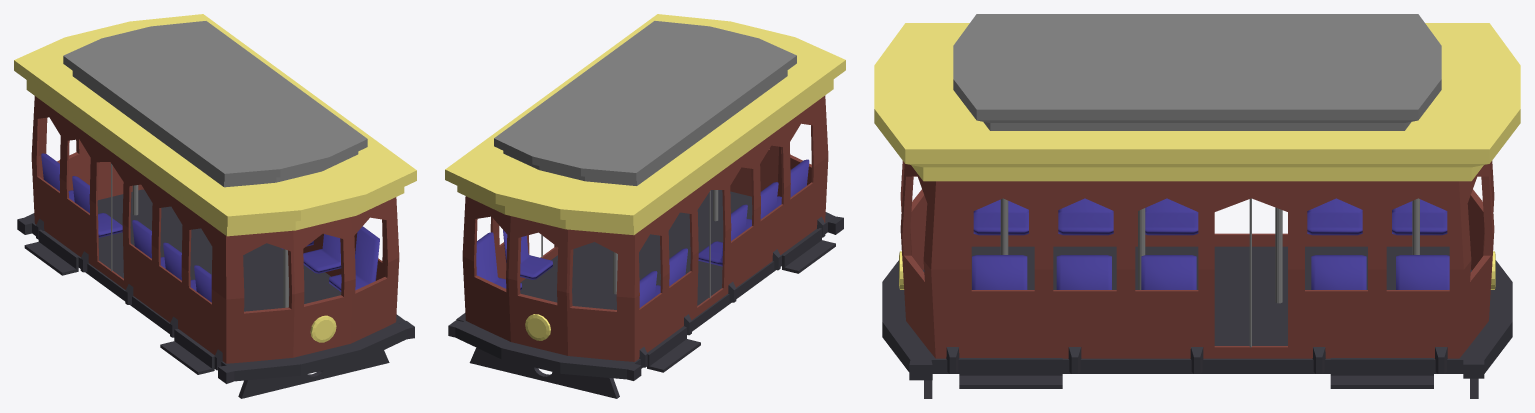
The model's file is TrolleyCarriage.fbx.
The picture shows the model from 3 angles, left to right: view 1: azimuth 30°, elevation 25°; view 2: azimuth 150°, elevation 25°; view 3: azimuth 270°, elevation 25°; orthographic projection. The views are drawn at different scales.
Visible parts, largest first — view 1: Cube.006, Cube.008, Cube.007, Cube, Cube.004, Cube.009, Cube.005, Cube.010, Cube.011, Cube.002, Cylinder, Cylinder.002; view 2: Cube.006, Cube.008, Cube.007, Cube, Cube.004, Cube.005, Cube.010, Cube.012, Cube.011, Cube.002, Cylinder, Cylinder.002; view 3: Cube.006, Cube.008, Cube.007, Cube, Cube.003, Cube.009, Cube.010, Cube.012, Cube.011, Cylinder.002, Cube.001.
Part boxes in pixels (x1=…): Cube.006: x1=31, y1=96, x2=399, y2=363; Cube.008: x1=63, y1=21, x2=367, y2=187; Cube.007: x1=14, y1=14, x2=416, y2=236; Cube: x1=17, y1=189, x2=414, y2=383; Cube.004: x1=24, y1=229, x2=214, y2=374; Cube.009: x1=281, y1=226, x2=379, y2=291; Cube.005: x1=238, y1=350, x2=389, y2=398; Cube.010: x1=132, y1=220, x2=211, y2=302; Cube.011: x1=41, y1=153, x2=122, y2=237; Cube.002: x1=36, y1=218, x2=222, y2=370; Cylinder: x1=310, y1=315, x2=336, y2=342; Cylinder.002: x1=132, y1=185, x2=288, y2=307; Cube.006: x1=462, y1=95, x2=828, y2=361; Cube.008: x1=494, y1=21, x2=796, y2=185; Cube.007: x1=445, y1=14, x2=845, y2=235; Cube: x1=448, y1=190, x2=843, y2=380; Cube.004: x1=647, y1=228, x2=835, y2=372; Cube.005: x1=469, y1=347, x2=619, y2=398; Cube.010: x1=698, y1=159, x2=809, y2=266; Cube.012: x1=476, y1=230, x2=552, y2=290; Cube.011: x1=639, y1=248, x2=687, y2=307; Cube.002: x1=639, y1=216, x2=825, y2=367; Cylinder: x1=525, y1=314, x2=550, y2=340; Cylinder.002: x1=613, y1=190, x2=718, y2=294; Cube.006: x1=900, y1=161, x2=1494, y2=358; Cube.008: x1=953, y1=14, x2=1441, y2=130; Cube.007: x1=874, y1=23, x2=1520, y2=181; Cube: x1=882, y1=246, x2=1512, y2=380; Cube.003: x1=959, y1=358, x2=1433, y2=388; Cube.009: x1=972, y1=255, x2=1196, y2=289; Cube.010: x1=973, y1=198, x2=1198, y2=235; Cube.012: x1=1311, y1=255, x2=1449, y2=289; Cube.011: x1=1307, y1=198, x2=1447, y2=235; Cylinder.002: x1=1000, y1=198, x2=1419, y2=303; Cube.001: x1=946, y1=347, x2=1447, y2=373.
Size of the model in its own units: 1600 by 1544 by 3141.
